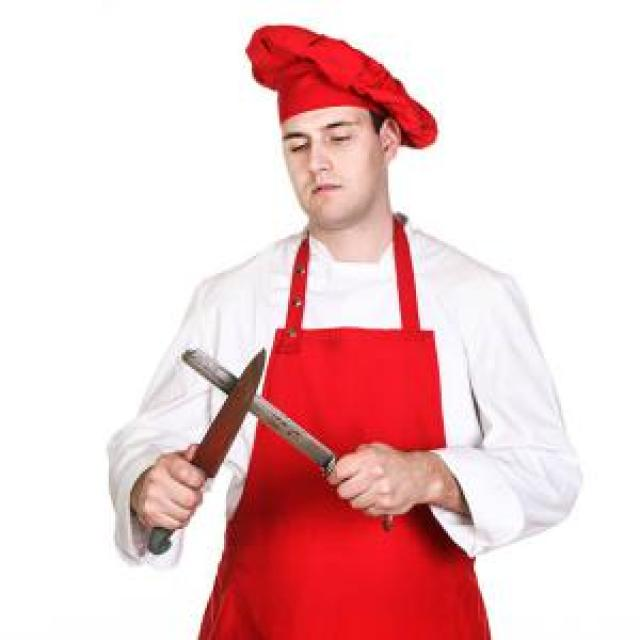knife: (143, 341, 272, 557)
